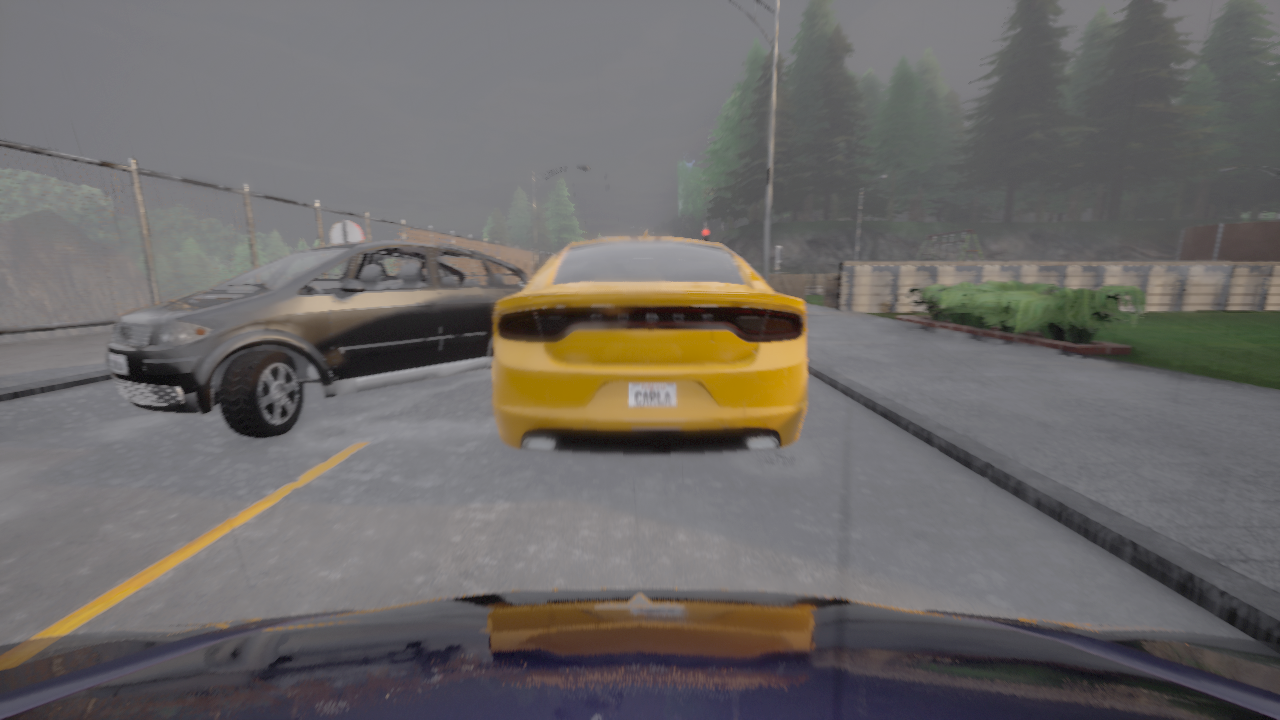cyclist: (0, 588, 1279, 719), (106, 241, 529, 438), (493, 230, 807, 454), (599, 237, 625, 239), (756, 272, 761, 277)
